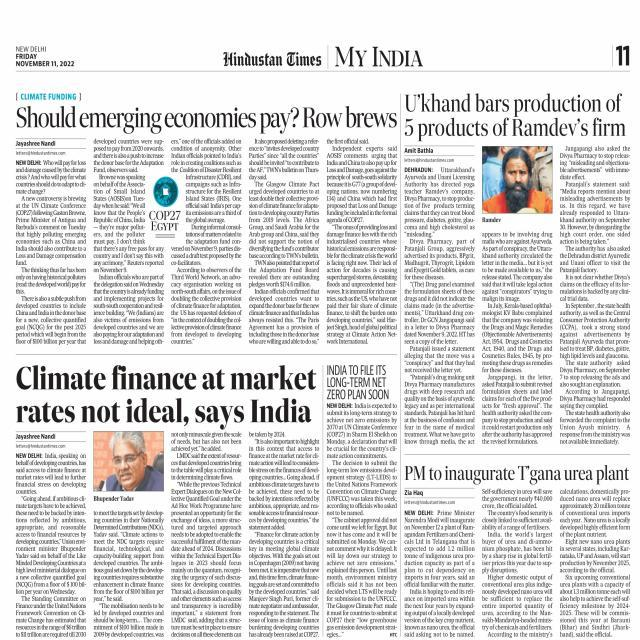Article: (12, 90, 400, 350), (10, 360, 322, 640), (402, 89, 634, 448), (402, 459, 634, 640), (324, 360, 399, 640)
Body: (559, 144, 631, 444), (404, 165, 476, 445), (326, 401, 398, 640), (482, 230, 554, 445), (92, 137, 166, 346), (170, 430, 243, 640), (170, 136, 243, 346), (247, 139, 321, 346), (248, 430, 320, 640), (326, 138, 398, 345), (14, 451, 87, 640), (15, 157, 87, 345), (480, 486, 552, 640), (559, 486, 631, 640), (92, 509, 165, 640), (404, 508, 476, 640)
Date: (15, 52, 76, 69)
Heading: (14, 362, 317, 430), (16, 104, 399, 134), (404, 92, 628, 142), (404, 462, 630, 486), (326, 363, 389, 400)
Image: (482, 146, 552, 214), (94, 432, 164, 492)
Name: (334, 43, 424, 68), (220, 50, 322, 67)
